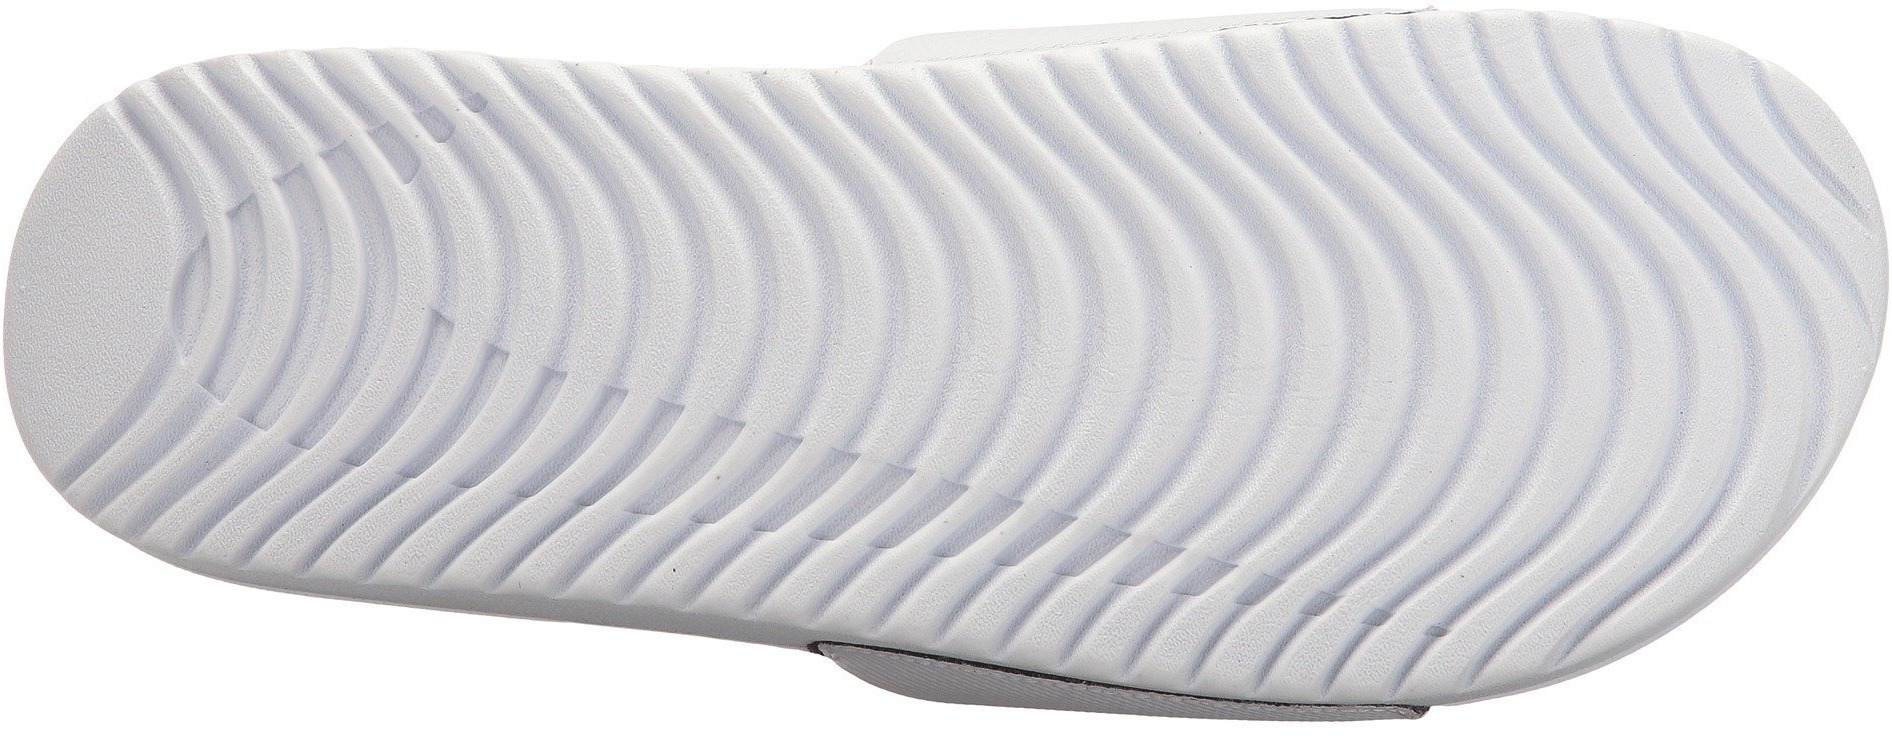chevron: (678, 90, 1246, 641), (174, 69, 713, 589), (1234, 54, 1789, 542)
